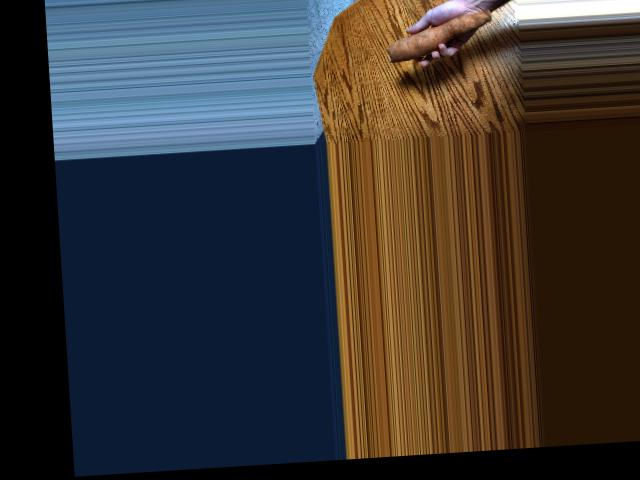sweet_potato: (385, 7, 492, 65)
